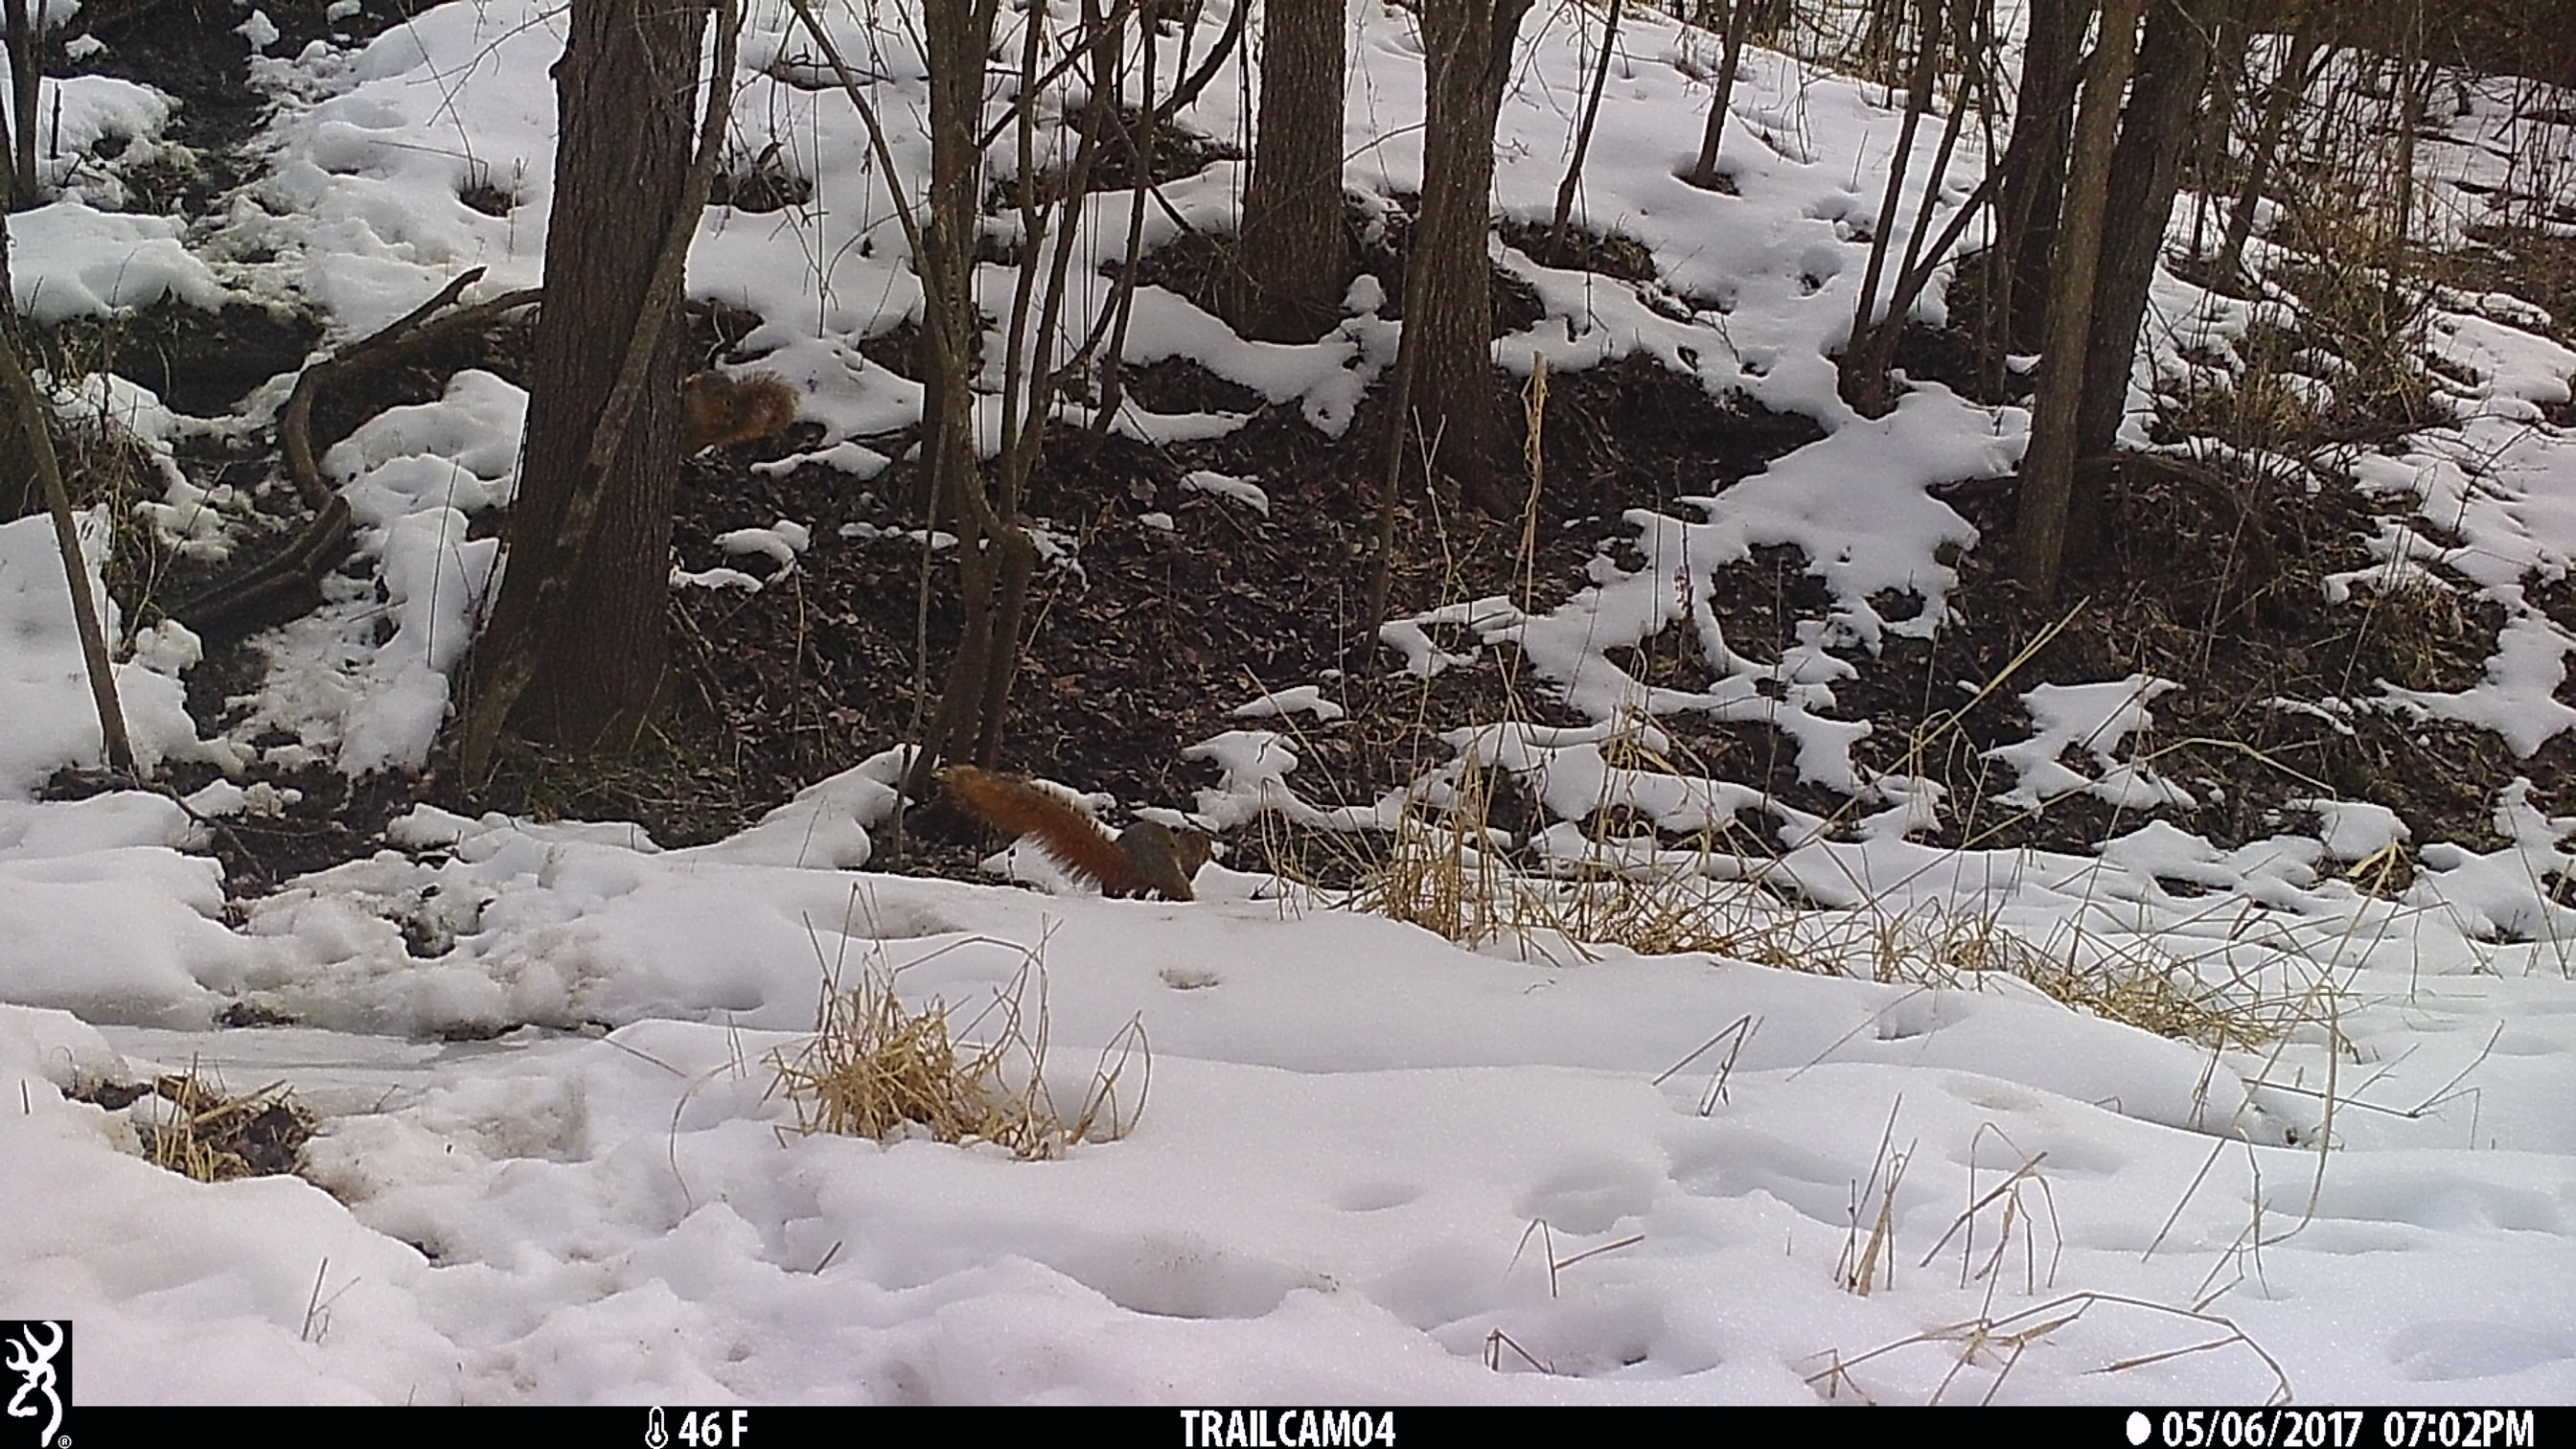Squirrel: (943, 761, 1219, 901)
